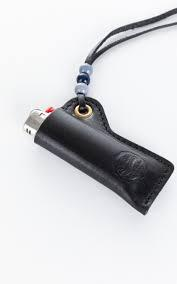lighter: (24, 98, 177, 217)
